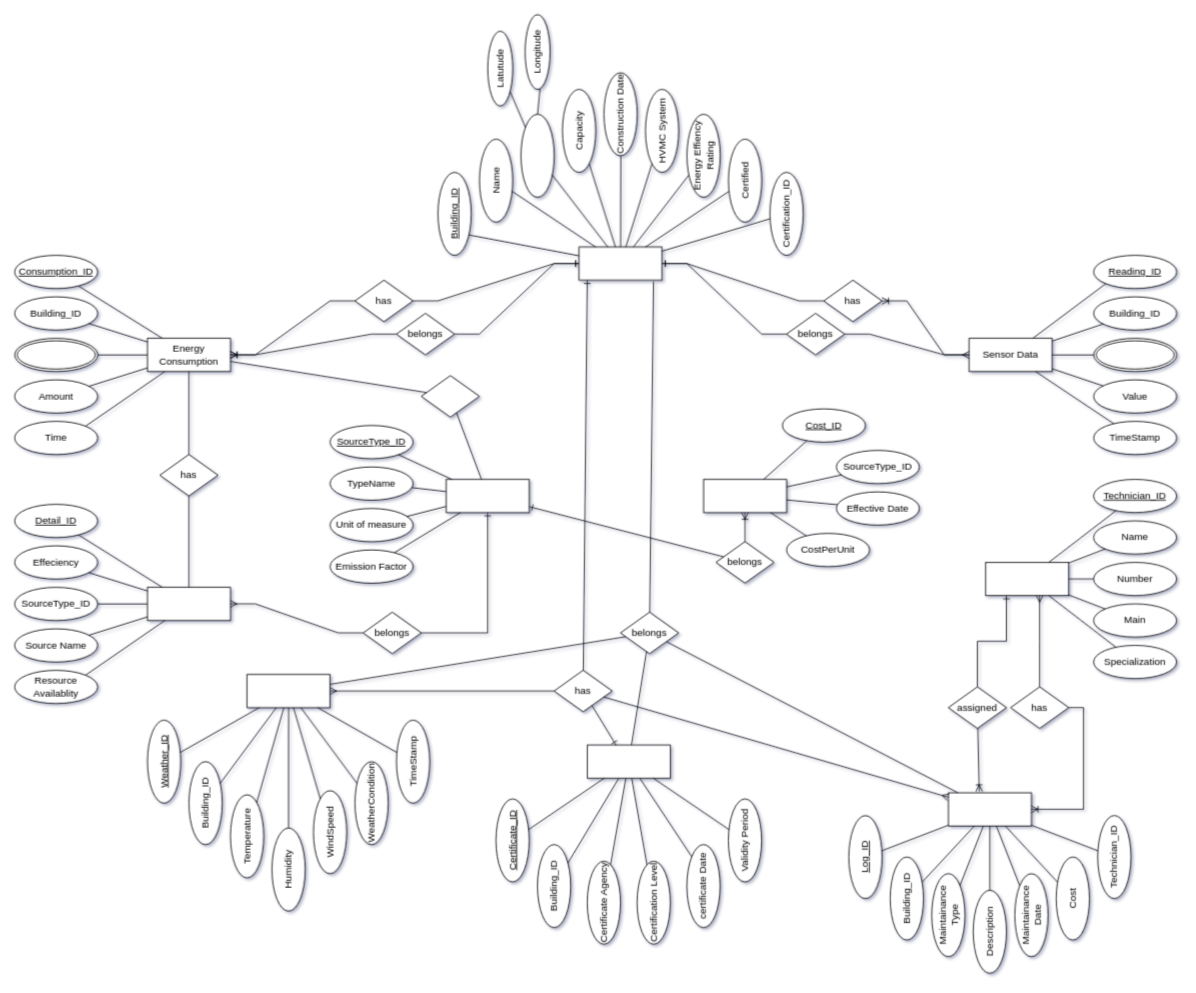
Image size: 1196x993. Some labels were removed from this diagram. The centre of each missing label's shape, as x and y in pixels:
Building: (620,263)
Consumption Type: (56,354)
Energy Consumption Certificate: (628,761)
Energy Cost: (744,495)
Energy Source Details: (188,603)
Energy Source Type: (487,495)
Location: (537,155)
Maintinance Log: (989,809)
Sensor Type: (1135,354)
Technician: (1027,578)
uses: (449,396)
Weather data: (288,691)
